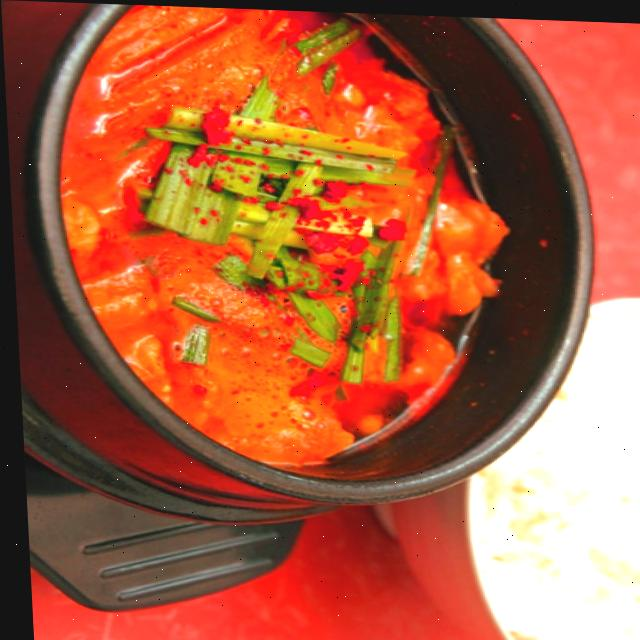米饭主食: (0, 0, 597, 474)
